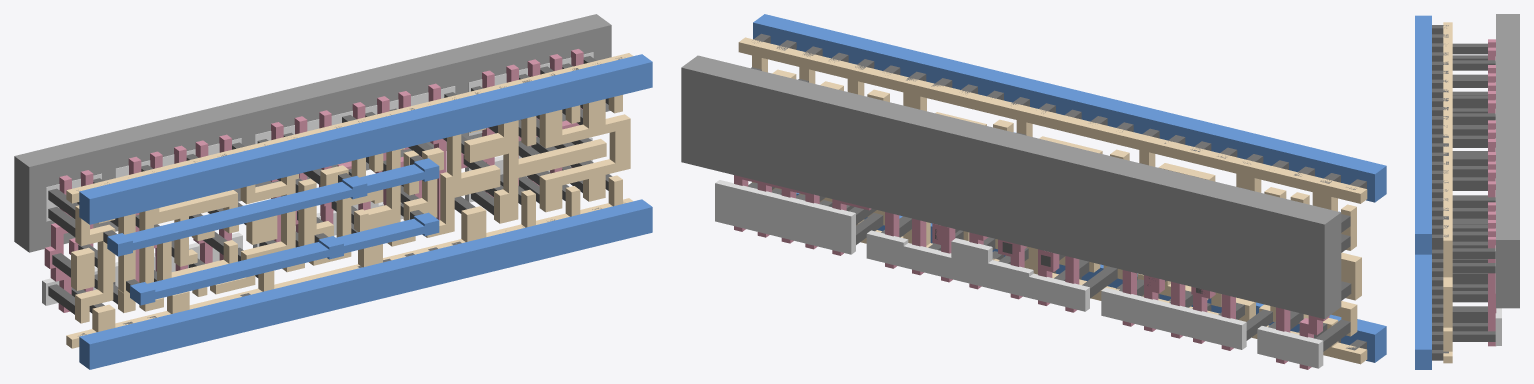
The model's file is sky130_fd_sc_hd__sdfxtp_4.gds.gltf.
The picture shows the model from 3 angles, left to right: view 1: azimuth 30°, elevation 25°; view 2: azimuth 150°, elevation 25°; view 3: azimuth 270°, elevation 25°; orthographic projection. The views are drawn at different scales.
Visible parts, largest first — view 1: sky130_fd_sc_hd__sdfxtp_4_met1, sky130_fd_sc_hd__sdfxtp_4_li1, sky130_fd_sc_hd__sdfxtp_4_nwell, sky130_fd_sc_hd__sdfxtp_4_poly, sky130_fd_sc_hd__sdfxtp_4_licon, sky130_fd_sc_hd__sdfxtp_4_diff, sky130_fd_sc_hd__sdfxtp_4_mcon; view 2: sky130_fd_sc_hd__sdfxtp_4_nwell, sky130_fd_sc_hd__sdfxtp_4_li1, sky130_fd_sc_hd__sdfxtp_4_diff, sky130_fd_sc_hd__sdfxtp_4_met1, sky130_fd_sc_hd__sdfxtp_4_poly, sky130_fd_sc_hd__sdfxtp_4_licon, sky130_fd_sc_hd__sdfxtp_4_mcon; view 3: sky130_fd_sc_hd__sdfxtp_4_licon, sky130_fd_sc_hd__sdfxtp_4_nwell, sky130_fd_sc_hd__sdfxtp_4_met1, sky130_fd_sc_hd__sdfxtp_4_mcon, sky130_fd_sc_hd__sdfxtp_4_li1, sky130_fd_sc_hd__sdfxtp_4_poly, sky130_fd_sc_hd__sdfxtp_4_diff.
Part boxes in pixels (box(x1,y1,x2,y2)): sky130_fd_sc_hd__sdfxtp_4_met1: box(79, 54, 652, 369); sky130_fd_sc_hd__sdfxtp_4_li1: box(66, 53, 633, 348); sky130_fd_sc_hd__sdfxtp_4_nwell: box(14, 14, 611, 252); sky130_fd_sc_hd__sdfxtp_4_poly: box(44, 49, 583, 312); sky130_fd_sc_hd__sdfxtp_4_licon: box(48, 56, 612, 314); sky130_fd_sc_hd__sdfxtp_4_diff: box(42, 52, 593, 305); sky130_fd_sc_hd__sdfxtp_4_mcon: box(76, 57, 623, 336); sky130_fd_sc_hd__sdfxtp_4_nwell: box(681, 55, 1341, 318); sky130_fd_sc_hd__sdfxtp_4_li1: box(738, 37, 1367, 364); sky130_fd_sc_hd__sdfxtp_4_diff: box(715, 180, 1323, 368); sky130_fd_sc_hd__sdfxtp_4_met1: box(753, 14, 1386, 362); sky130_fd_sc_hd__sdfxtp_4_poly: box(734, 175, 1329, 369); sky130_fd_sc_hd__sdfxtp_4_licon: box(748, 67, 1351, 351); sky130_fd_sc_hd__sdfxtp_4_mcon: box(752, 33, 1366, 350); sky130_fd_sc_hd__sdfxtp_4_licon: box(1452, 43, 1495, 341); sky130_fd_sc_hd__sdfxtp_4_nwell: box(1496, 14, 1519, 308); sky130_fd_sc_hd__sdfxtp_4_met1: box(1415, 15, 1431, 369); sky130_fd_sc_hd__sdfxtp_4_mcon: box(1432, 25, 1448, 360); sky130_fd_sc_hd__sdfxtp_4_li1: box(1443, 22, 1452, 363); sky130_fd_sc_hd__sdfxtp_4_poly: box(1488, 39, 1496, 346); sky130_fd_sc_hd__sdfxtp_4_diff: box(1495, 56, 1501, 345).
Bounding box in the file's own units: 11.42 × 3.2 × 2.24.
